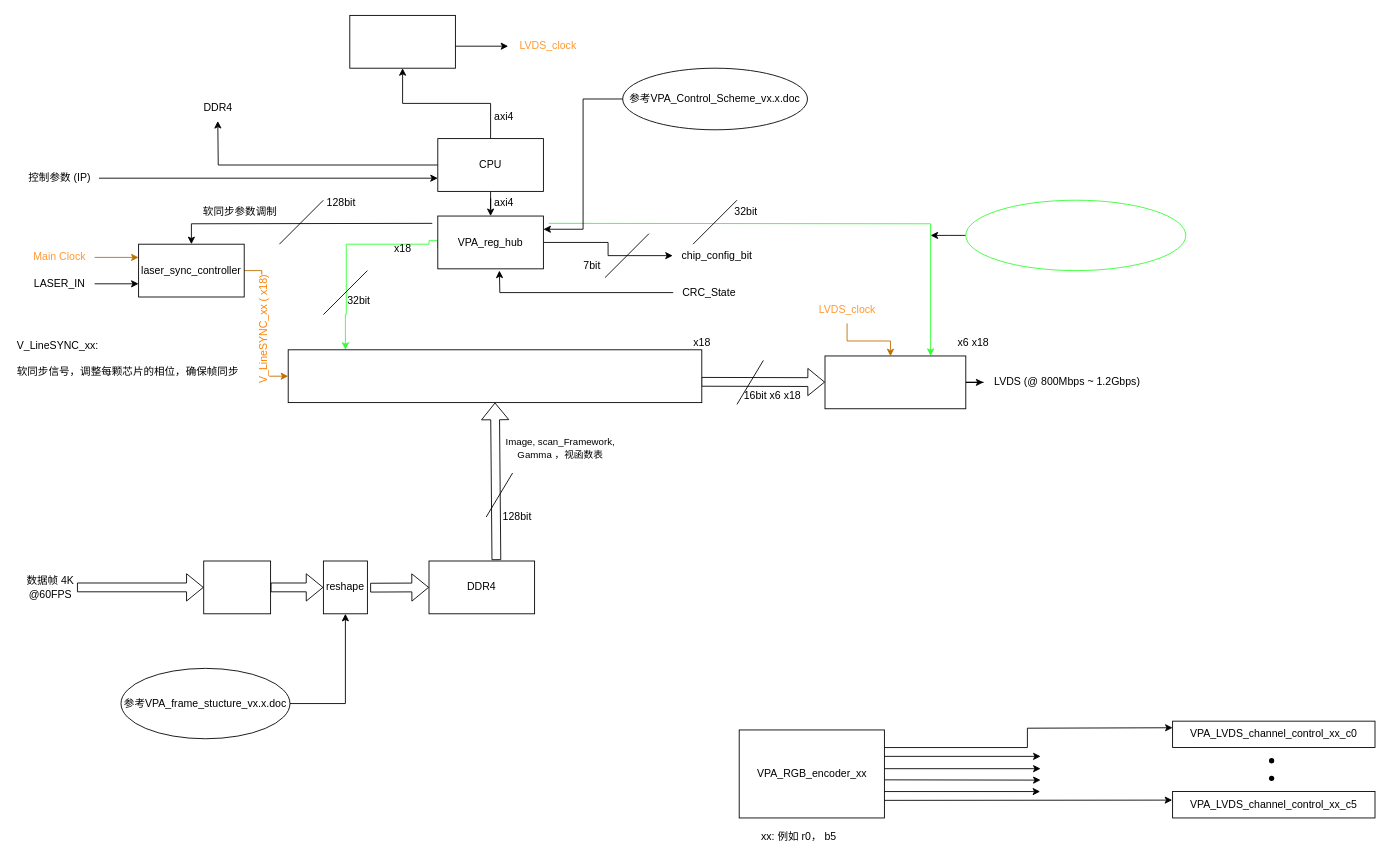
Some shapes in this 1390 by 865 pixel diagram are drawn without their labels. Here are the shapes that lost their labels. From the top down, the centre of each, then its label:
At point 402,41: "PLL".
At point 1075,235: "参考reg_hub_protocol.doc".
At point 494,376: "VPA_RGB_encoder".
At point 895,382: "VPA_LVDS_channel_control".
At point 237,587: "DP_RX".
